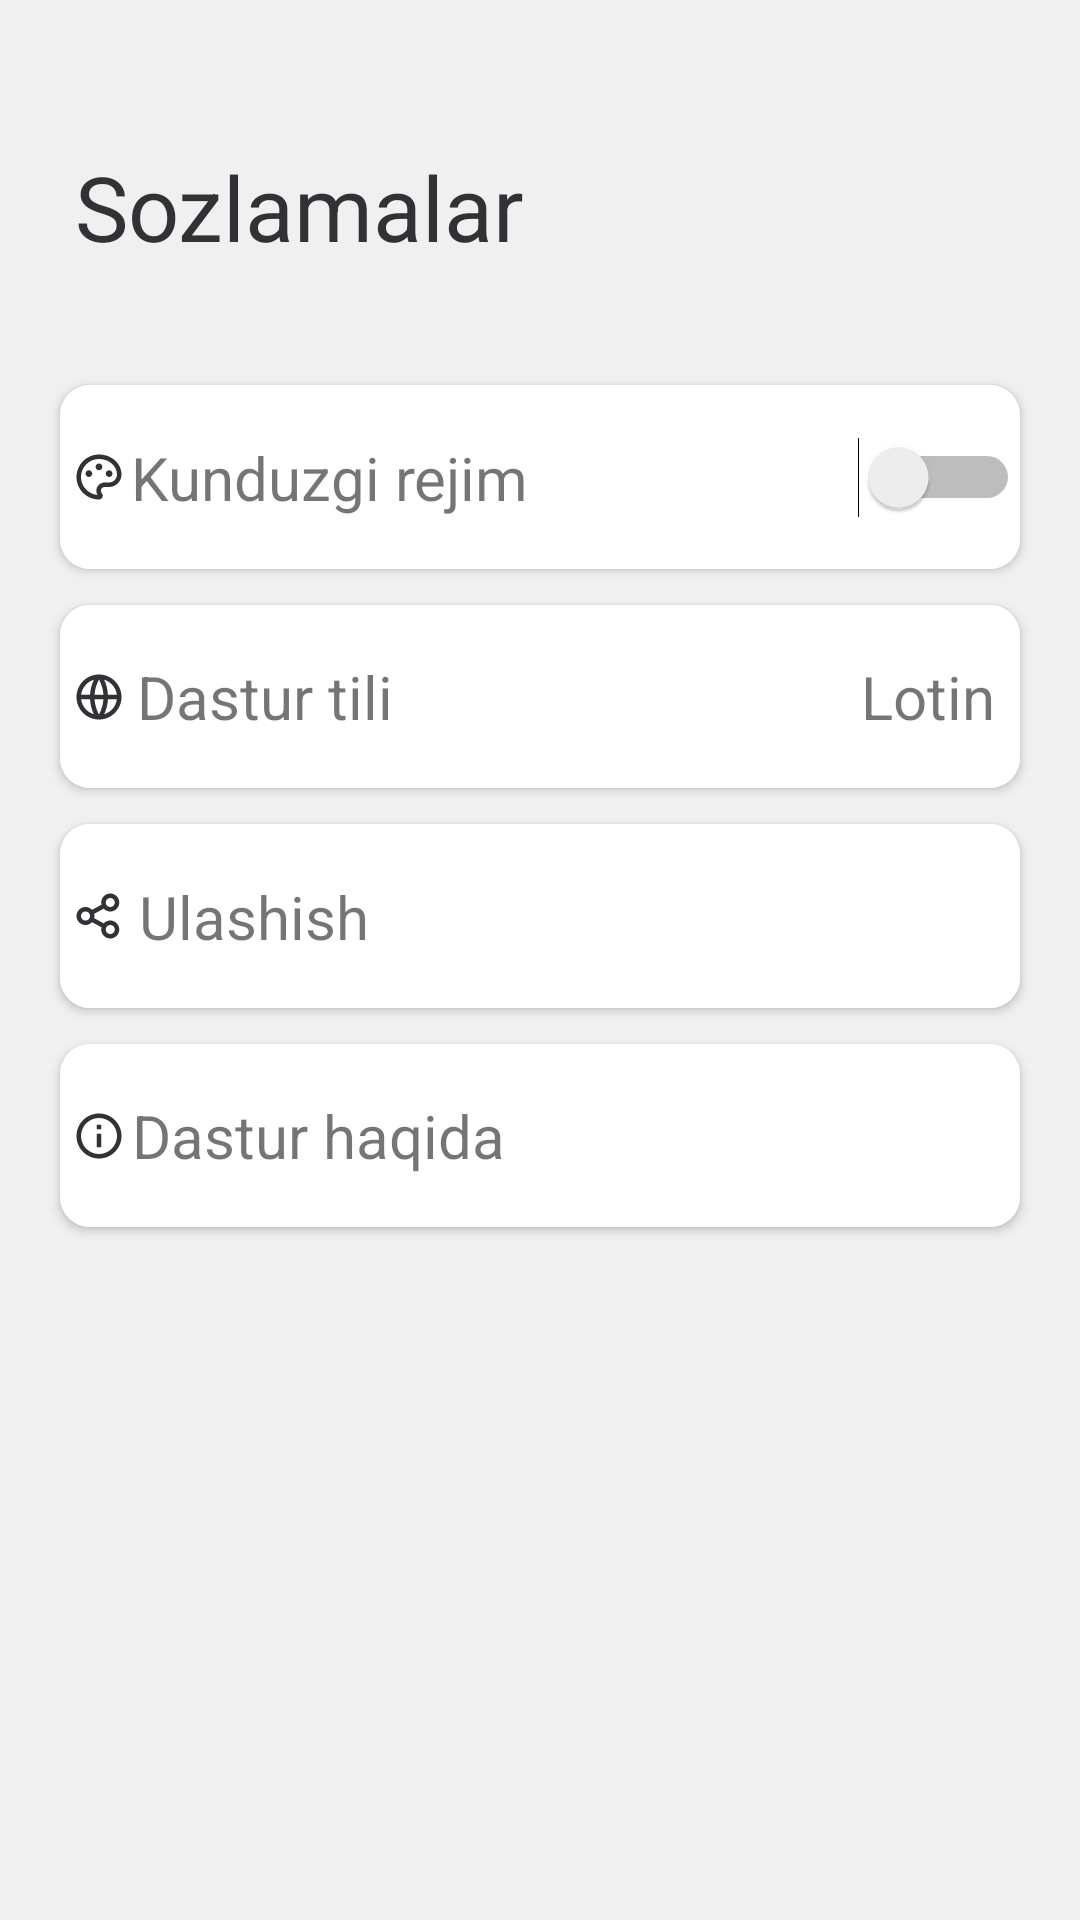

Named icons in this screenshot (1080×1920) and their centers, [x,y]:
info: [99,1136]
lang: [99,697]
share: [98,916]
